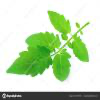Tomato leaf: (6, 46, 52, 77), (25, 30, 62, 55), (46, 7, 73, 36), (51, 48, 72, 84), (71, 35, 91, 64)
